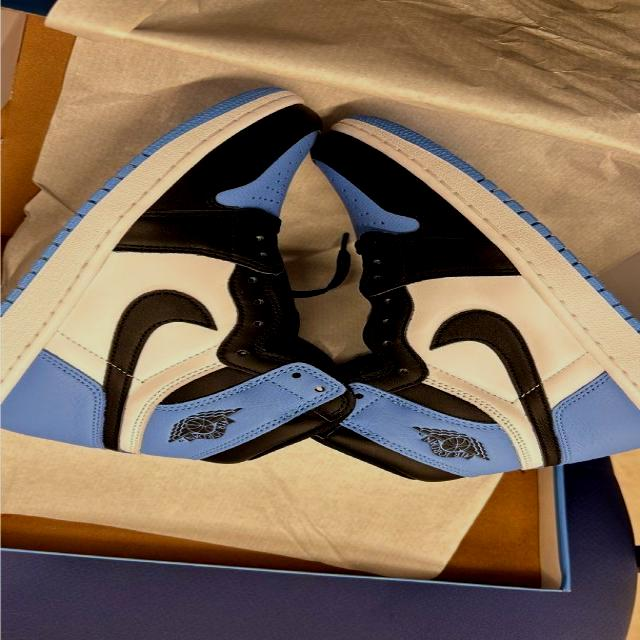nike_original_jordan: (0, 86, 361, 462), (307, 83, 640, 482)
